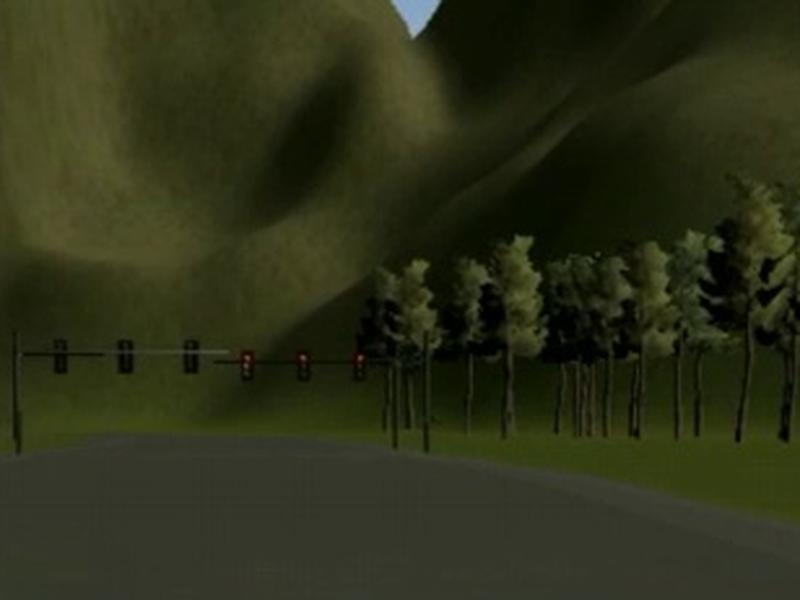Red: (241, 349, 256, 381), (353, 349, 367, 380), (298, 352, 309, 382)
